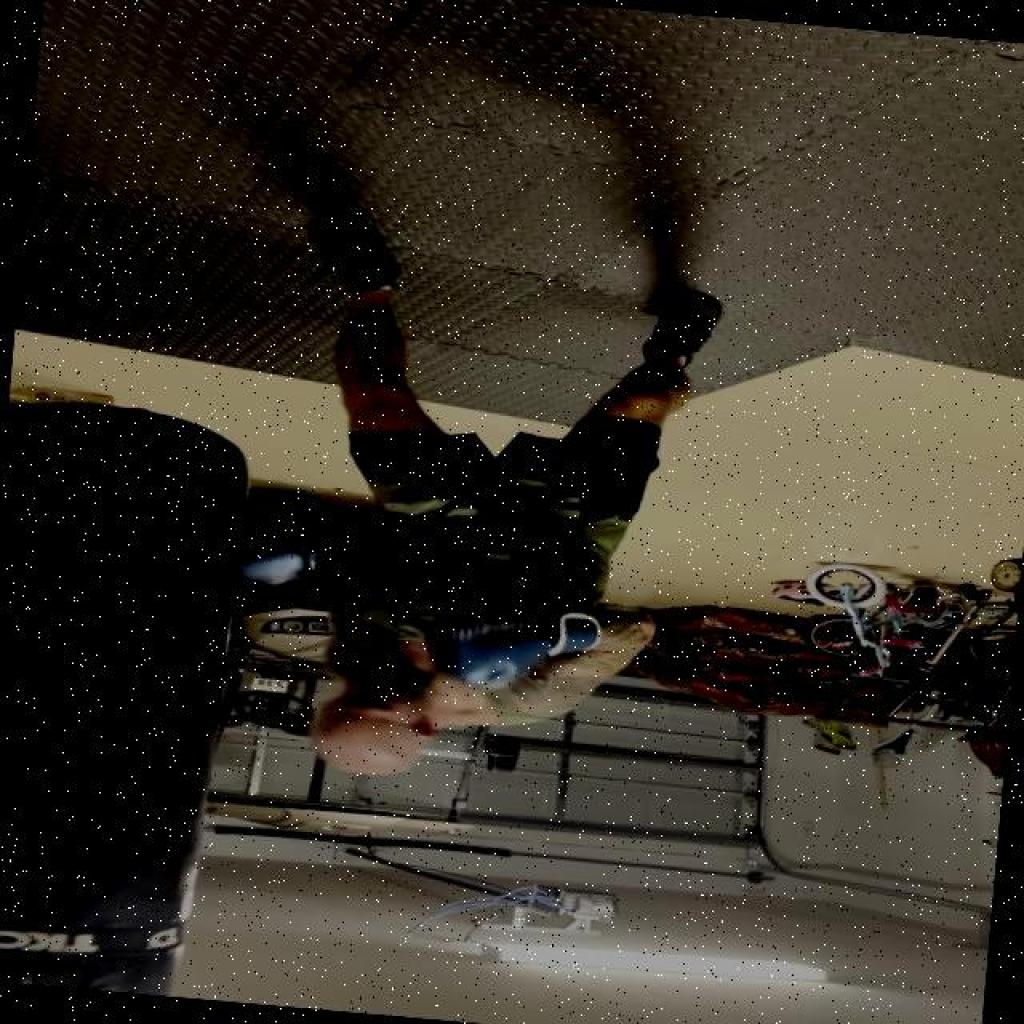bag: (0, 388, 253, 998)
uppercut: (155, 490, 653, 819)
